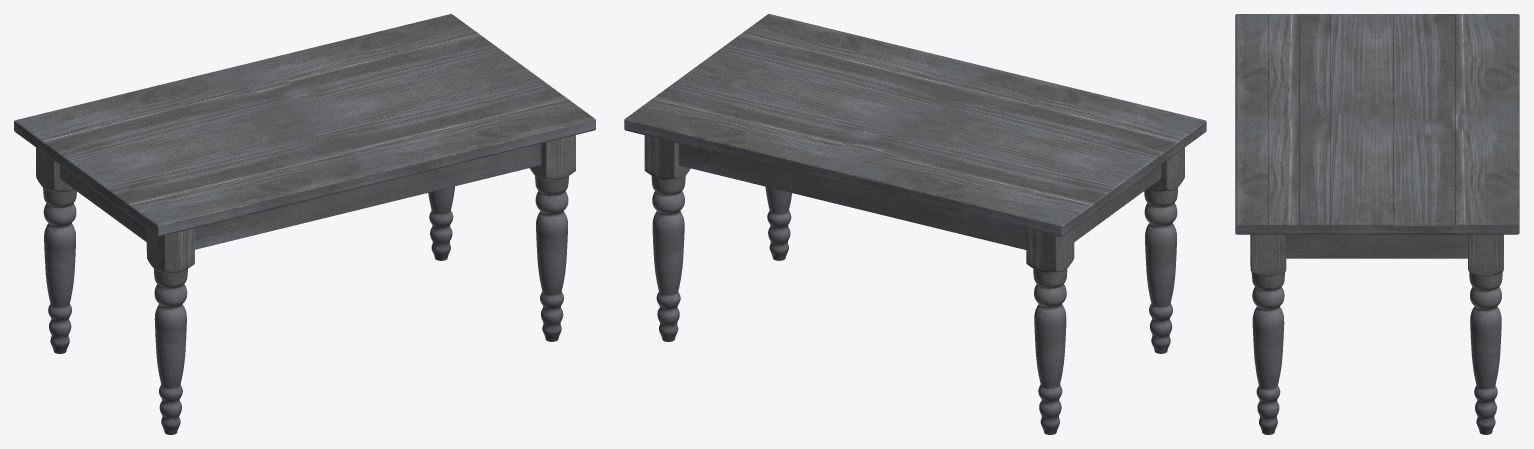
The model's file is GRNW1016.obj.
3 views of the same model, side by side, from view 1: azimuth 30°, elevation 25°; view 2: azimuth 150°, elevation 25°; view 3: azimuth 270°, elevation 25° (orthographic).
Visible parts, largest first — view 1: not_clear_obj_4_v6, not_clear_obj_0_v6, not_clear_obj_2_v6, not_clear_obj_1_v6, not_clear_obj_3_v6; view 2: not_clear_obj_4_v6, not_clear_obj_0_v6, not_clear_obj_2_v6, not_clear_obj_1_v6, not_clear_obj_3_v6; view 3: not_clear_obj_4_v6, not_clear_obj_0_v6, not_clear_obj_2_v6, not_clear_obj_3_v6, not_clear_obj_1_v6.
Part boxes in pixels (x1,y1,x2,y2): not_clear_obj_4_v6: (14, 14, 595, 236); not_clear_obj_0_v6: (43, 176, 568, 434); not_clear_obj_2_v6: (60, 143, 541, 249); not_clear_obj_1_v6: (14, 121, 595, 235); not_clear_obj_3_v6: (36, 135, 575, 272); not_clear_obj_4_v6: (624, 14, 1206, 236); not_clear_obj_0_v6: (651, 176, 1177, 434); not_clear_obj_2_v6: (678, 143, 1161, 249); not_clear_obj_1_v6: (624, 121, 1206, 235); not_clear_obj_3_v6: (644, 135, 1184, 272); not_clear_obj_4_v6: (1235, 14, 1519, 234); not_clear_obj_0_v6: (1251, 272, 1502, 434); not_clear_obj_2_v6: (1286, 234, 1467, 258); not_clear_obj_3_v6: (1250, 234, 1503, 276); not_clear_obj_1_v6: (1235, 225, 1519, 233).
Size of what is drawn, in the model's own units: 160 by 78.74 by 91.44.
